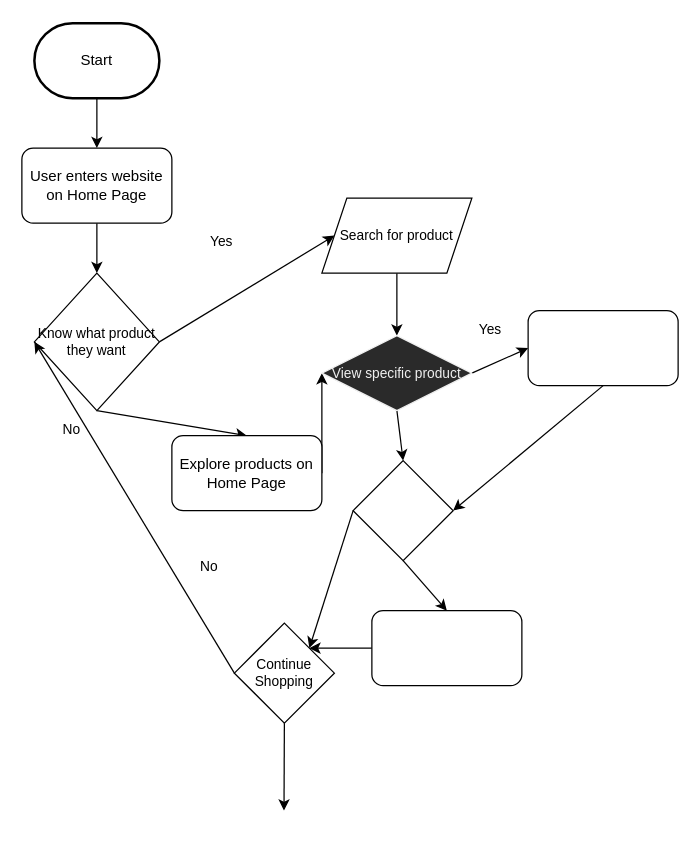
This 700x843 diagram has some shape labels left out. Here are the shapes that lost their labels. From the top down, the box of each, then its label:
(527, 309, 678, 386): Open Product WebPage
(352, 459, 453, 561): Buy Product
(371, 609, 522, 686): Added to Cart Confirmation
